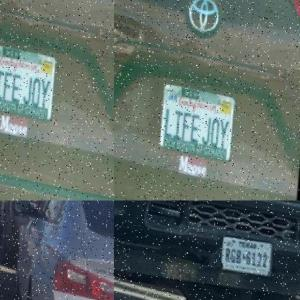Plate: (153, 77, 235, 159), (0, 40, 56, 121), (217, 232, 269, 274)
